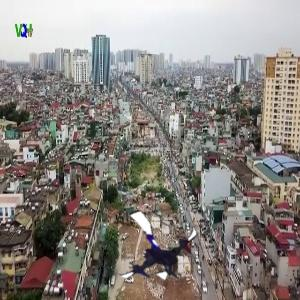drone: (105, 200, 201, 296)
